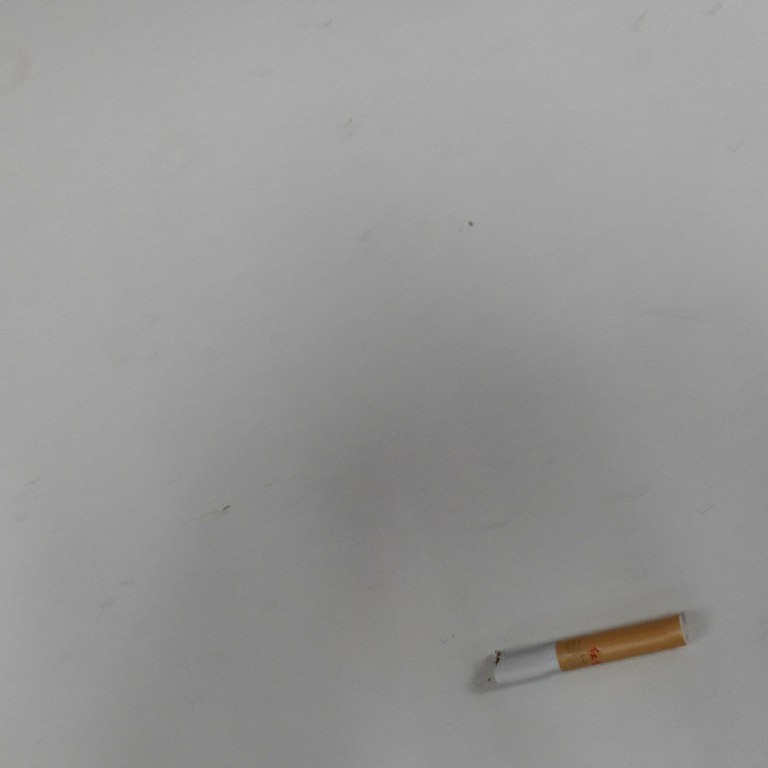cigarette: (480, 605, 693, 691)
